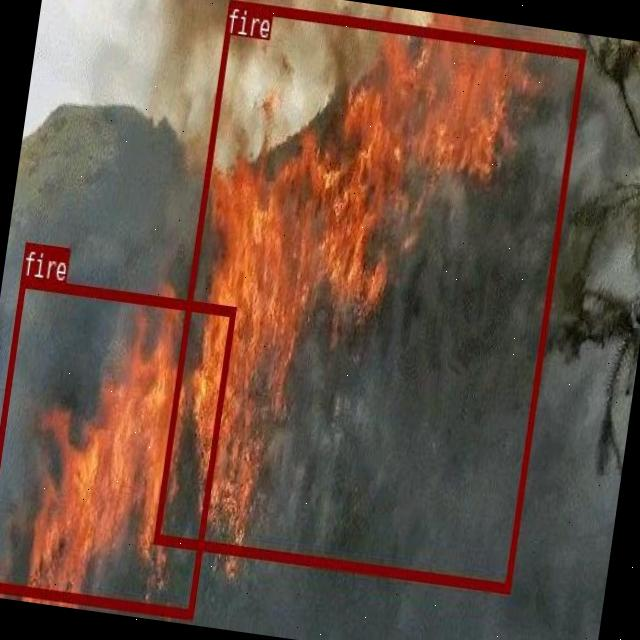fire: (152, 0, 584, 592), (0, 276, 235, 617)
